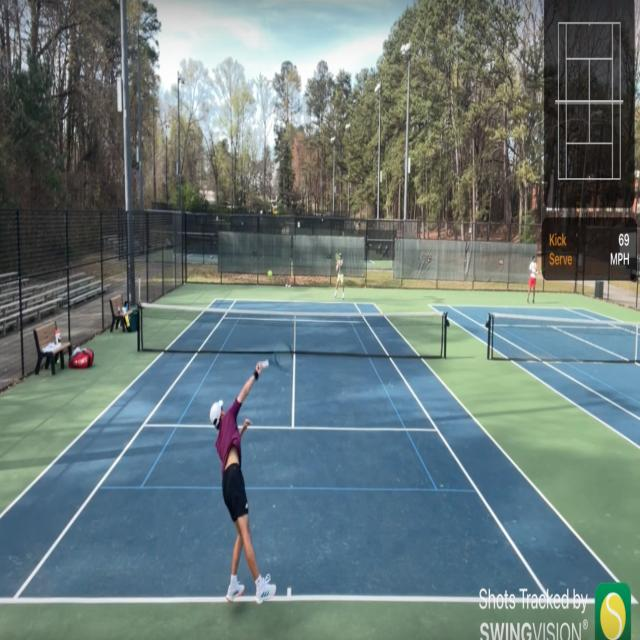ball: (268, 269, 272, 279)
